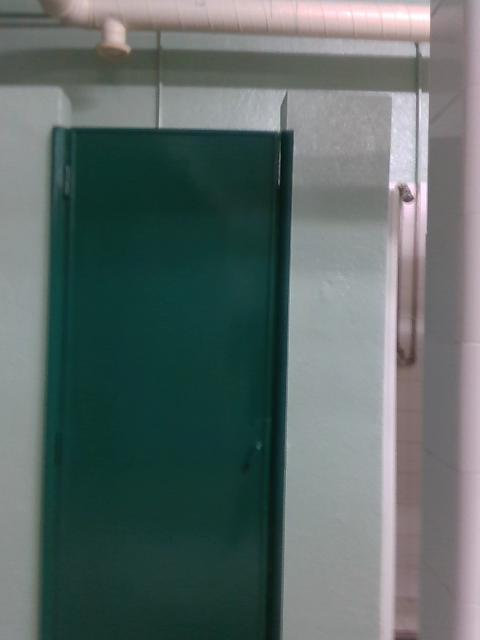door: (58, 127, 278, 640)
